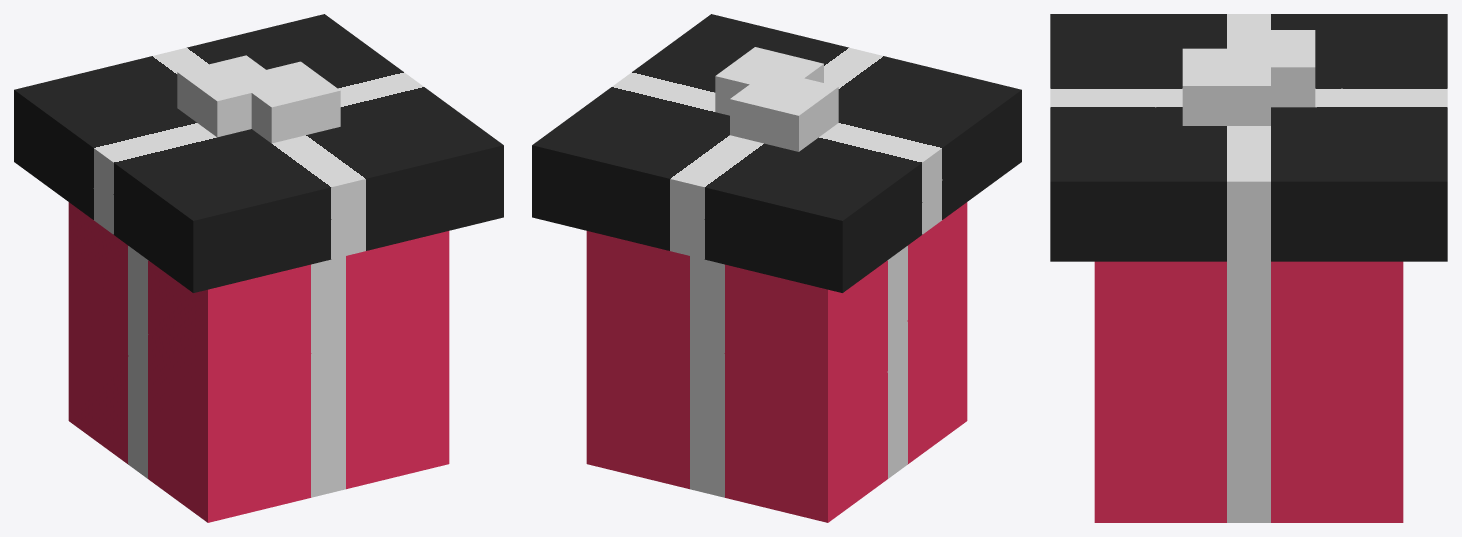
File: item_gift_3.dae
3 renders of one model, left to right at view 1: azimuth 30°, elevation 25°; view 2: azimuth 150°, elevation 25°; view 3: azimuth 270°, elevation 25°, orthographic. The views are drawn at different scales.
Visible parts, largest first — view 1: item_gift_3; view 2: item_gift_3; view 3: item_gift_3.
Part boxes in pixels (bbox=[...]): item_gift_3: bbox=[14, 14, 503, 522]; item_gift_3: bbox=[532, 14, 1021, 522]; item_gift_3: bbox=[1050, 14, 1447, 522].
Size of the model in its own units: 0.9 by 1 by 0.9.
